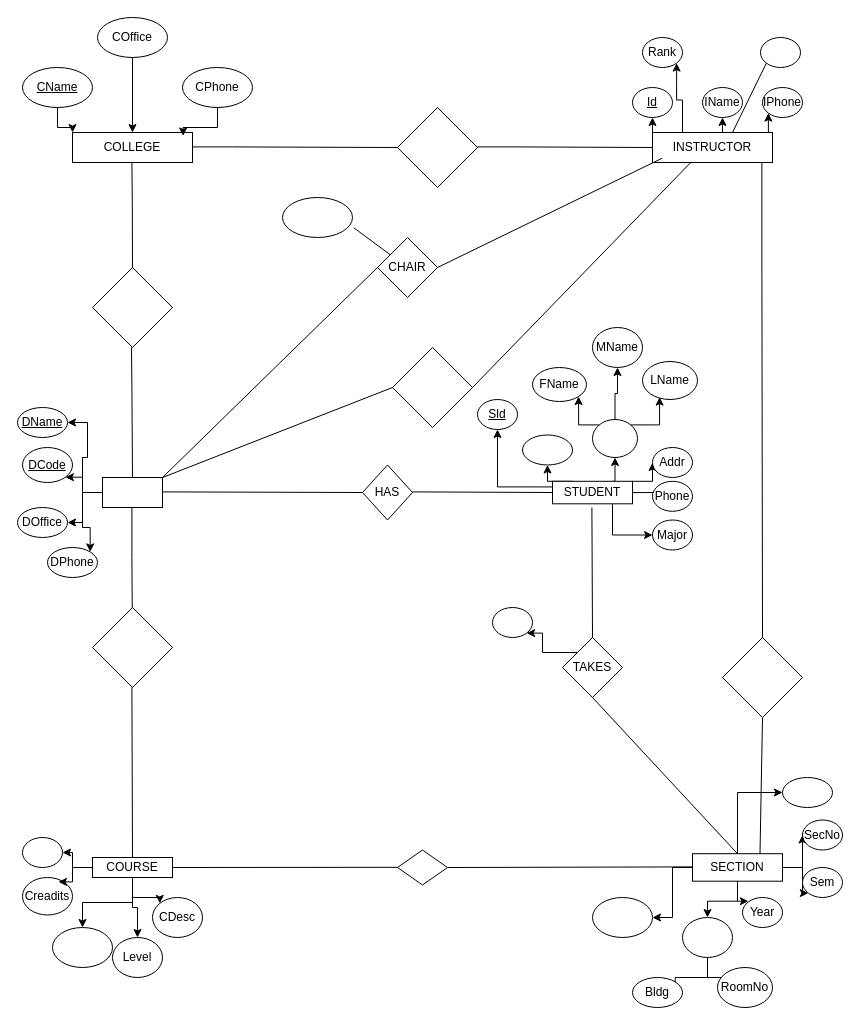
This 860x1029 diagram has some shape labels left out. The box of each missing label's shape, as (x1, y1, x2, y2) in pixels:
ADMINS: (92, 266, 172, 348)
CCode: (22, 836, 62, 868)
CoName: (52, 926, 112, 968)
CRoom: (682, 916, 732, 958)
CStartDate: (282, 196, 352, 238)
DaysTime: (592, 896, 652, 938)
DEAN: (396, 106, 478, 188)
DEPT: (102, 476, 162, 508)
DOB: (522, 434, 572, 465)
EMPLOYS: (392, 346, 472, 428)
Grade: (492, 606, 532, 638)
IOffice: (760, 36, 800, 68)
OFFERS: (92, 606, 172, 688)
Secld: (782, 776, 832, 808)
SECS: (396, 849, 448, 885)
SName: (592, 418, 638, 458)
TEACHES: (722, 636, 802, 718)
